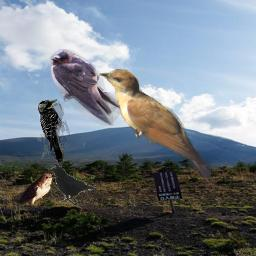Crow: (47, 165, 97, 202)
Cuckoo: (99, 69, 211, 179), (12, 173, 58, 206)
Swallow: (49, 49, 122, 126)
Woodpecker: (37, 99, 70, 166)
